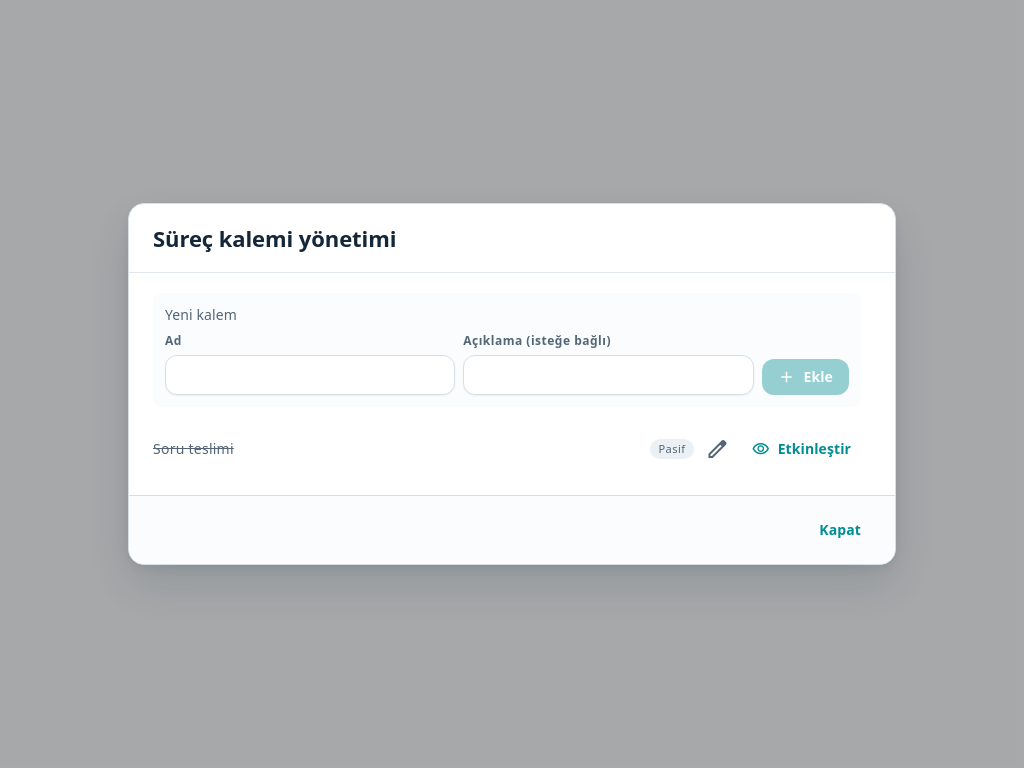
Test: KalemYonetimiDialog › pasif kalem rozetle görünür ve onaysız etkinleştirilir
Check: the text "Pasif" is shown, box [650,439,694,459]
Click the button with aria-label "Soru teslimi kalemini etkinleştir" at (801, 449), box [742,431,861,467]
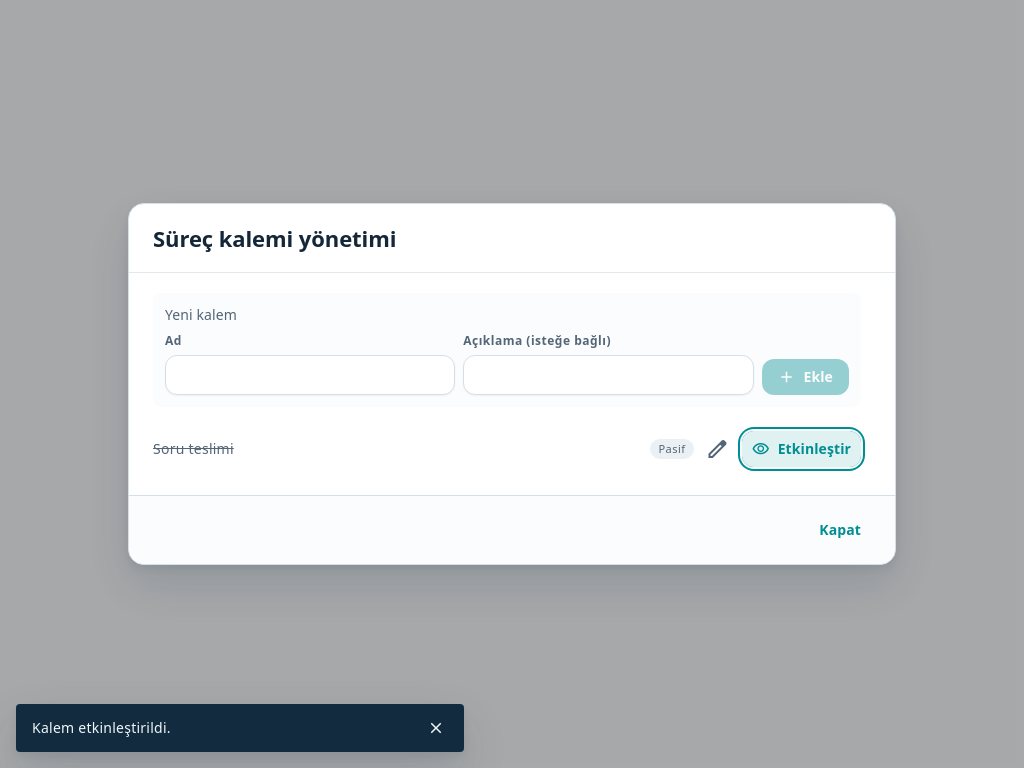
Check: the text "Kalem etkinleştirildi." is shown, box [32,718,171,737]
